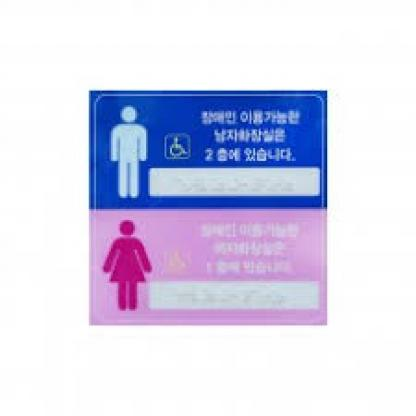toilet: (102, 213, 152, 311), (110, 101, 150, 202)
